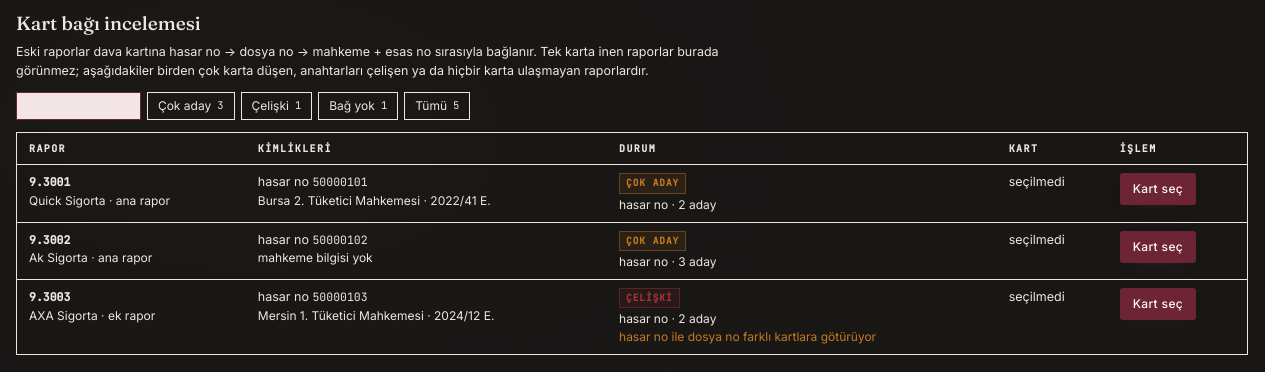
KartBagiListesi › bağ yok satırında seçim düğmesi yoktur
The width and height of the screenshot is (1265, 372).
Click the button "Bağ yok 1" at (358, 106), box [318,92,398,120]
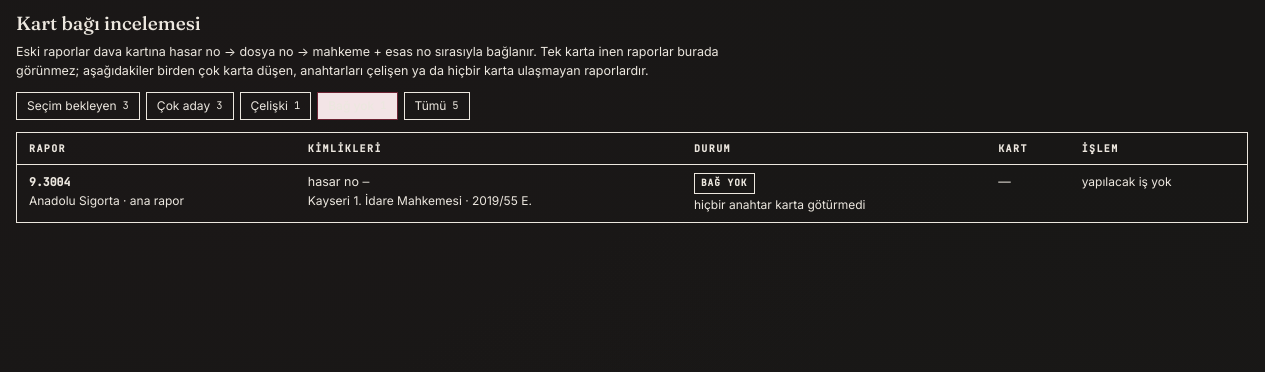
Now the button "Kart seç" is gone
